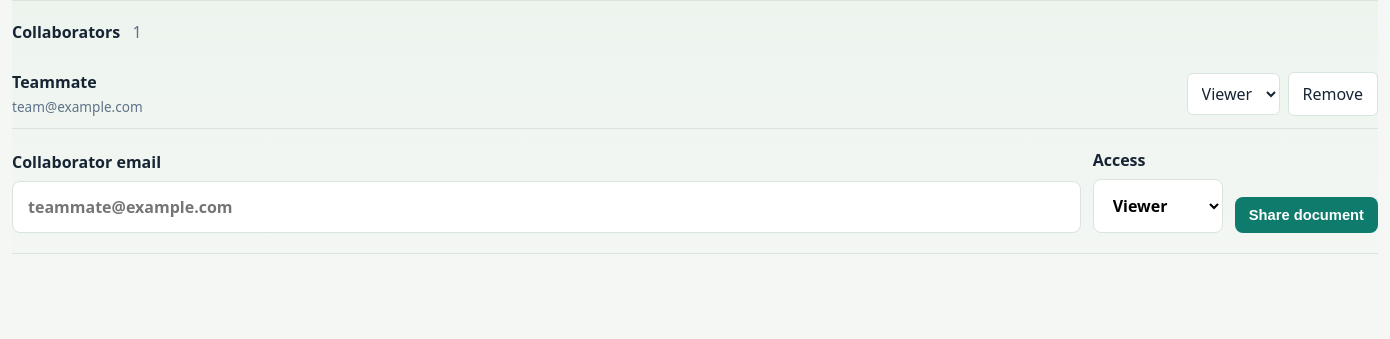
Test: locks controls during role save and restores original role after failure
Later steps or results of the test are not shown.
Select "Editor" in the dropdown named "Role for team@example.com" at (1233, 94), box 1186,72 -> 1280,114
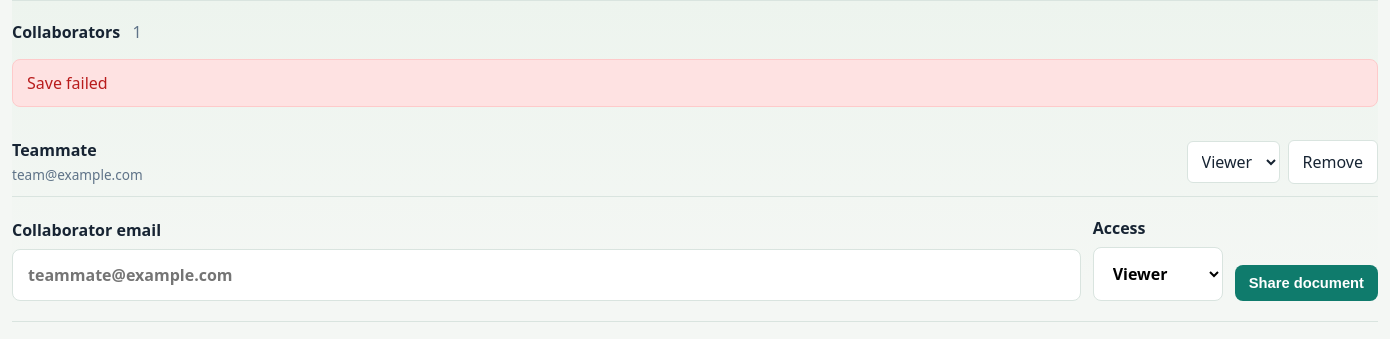
Expected: the button "Share document" is enabled, 1235,265 -> 1378,301
Now the message reads "Save failed", box 27,72 -> 108,94
